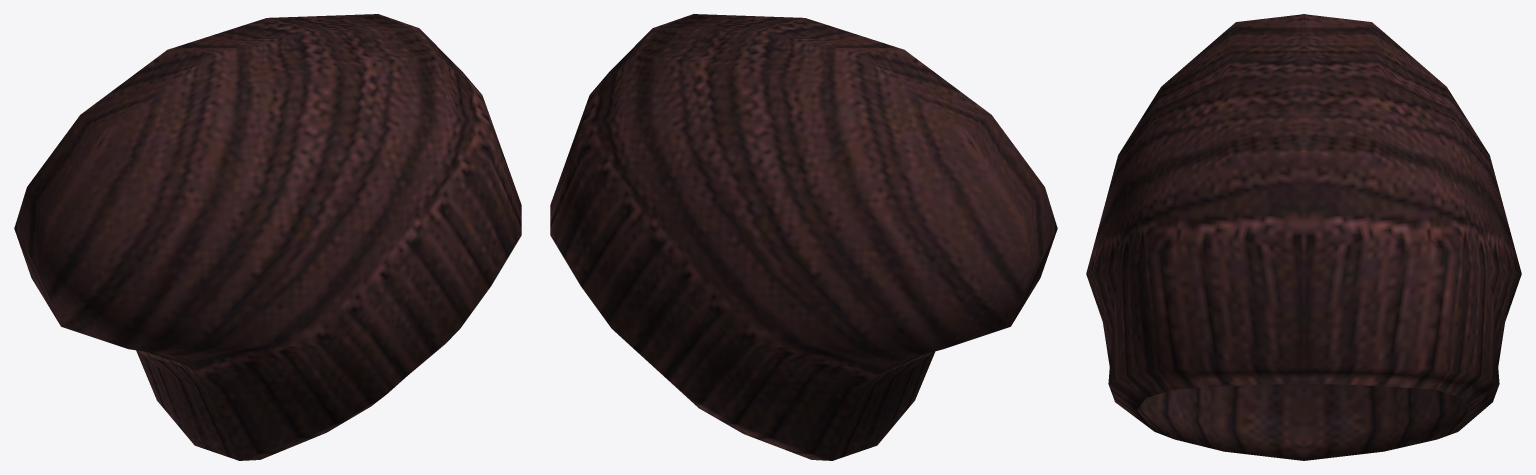
Rendered from hat_0400045.FBX.
The picture shows the model from 3 angles, left to right: view 1: azimuth 30°, elevation 25°; view 2: azimuth 150°, elevation 25°; view 3: azimuth 270°, elevation 25°; orthographic projection. The views are drawn at different scales.
Parts seen in each view (by area): view 1: hat_0400045; view 2: hat_0400045; view 3: hat_0400045.
Boxes of the visible parts, box(x1,y1,x2,y2) form: hat_0400045: box(14, 14, 521, 460); hat_0400045: box(550, 14, 1057, 460); hat_0400045: box(1086, 14, 1521, 460).
Size of the model in its own units: 34.7 by 28.79 by 25.58.
